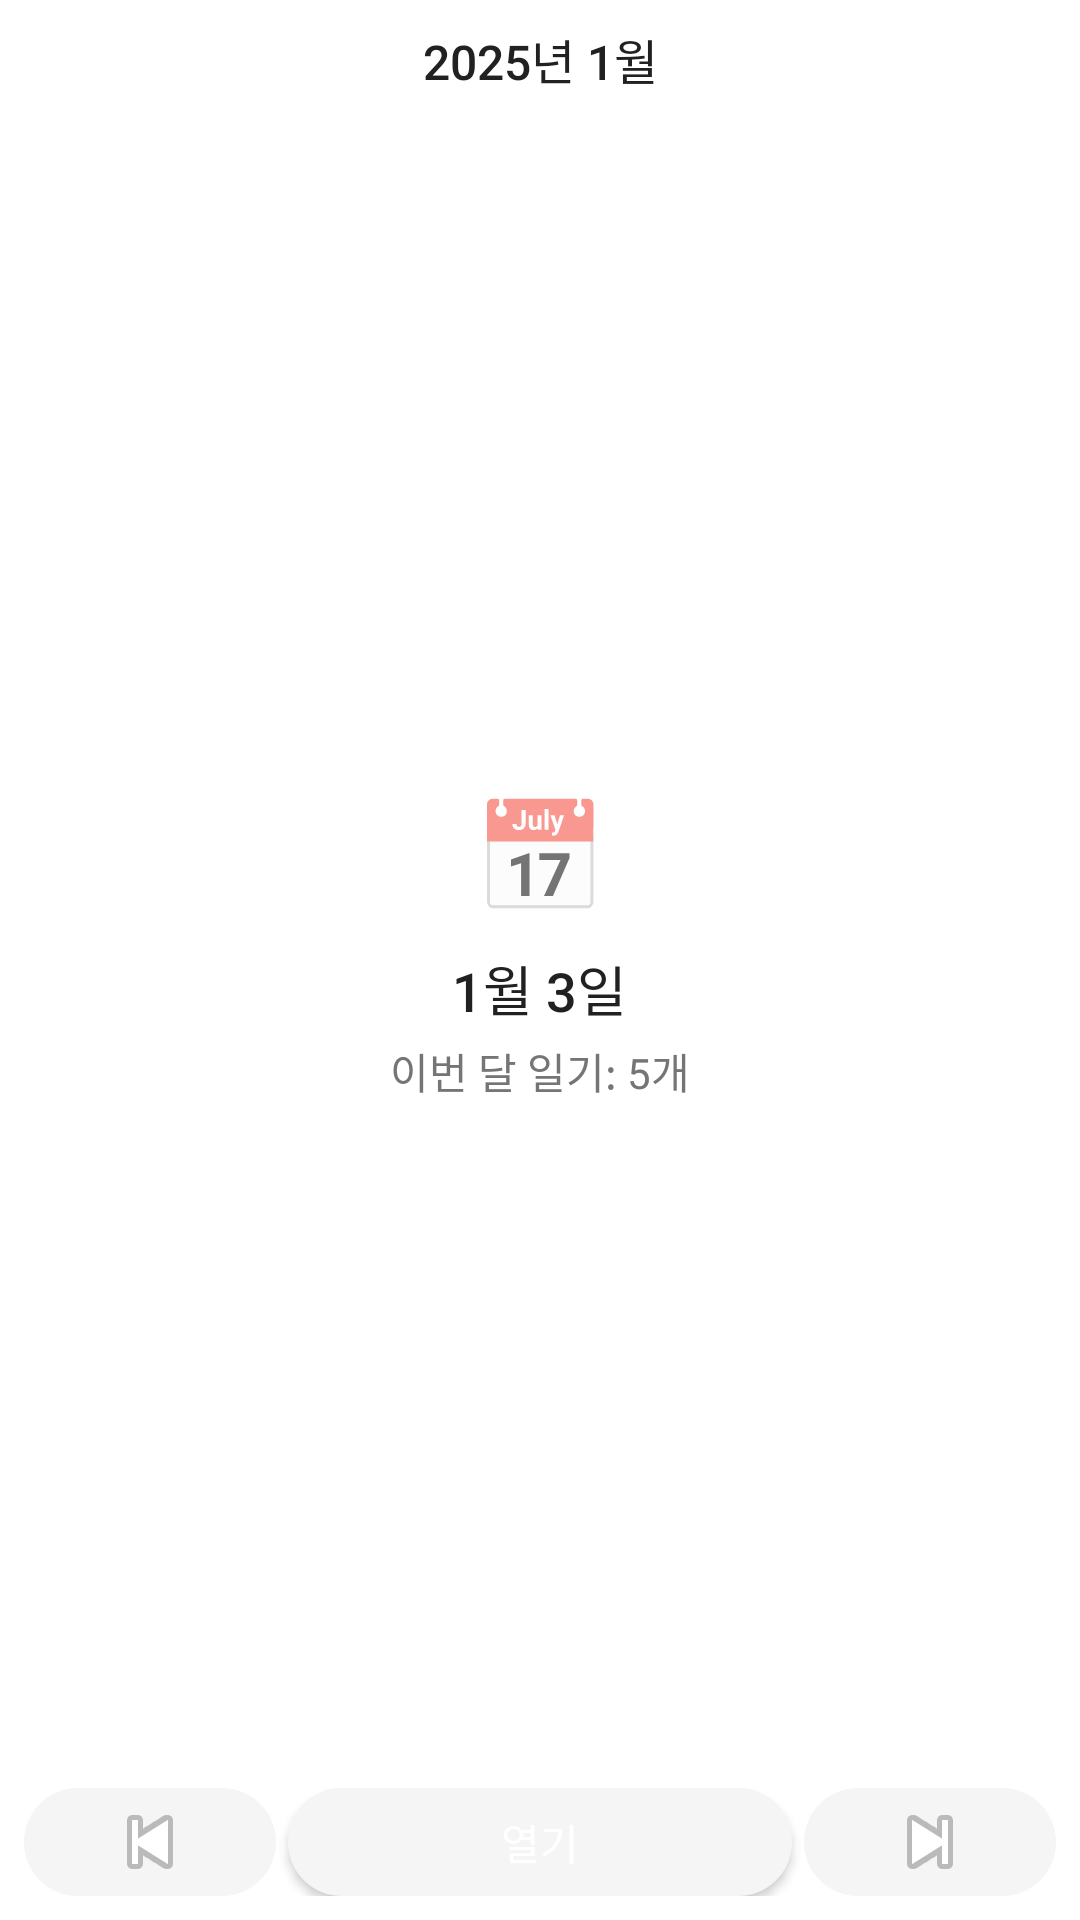

Locate icon controls on the screen. Image size 1080 × 1920, boxes as (x1, y1, x2, y2).
다음 달: (804, 1788, 1056, 1896)
이전 달: (24, 1788, 276, 1896)
